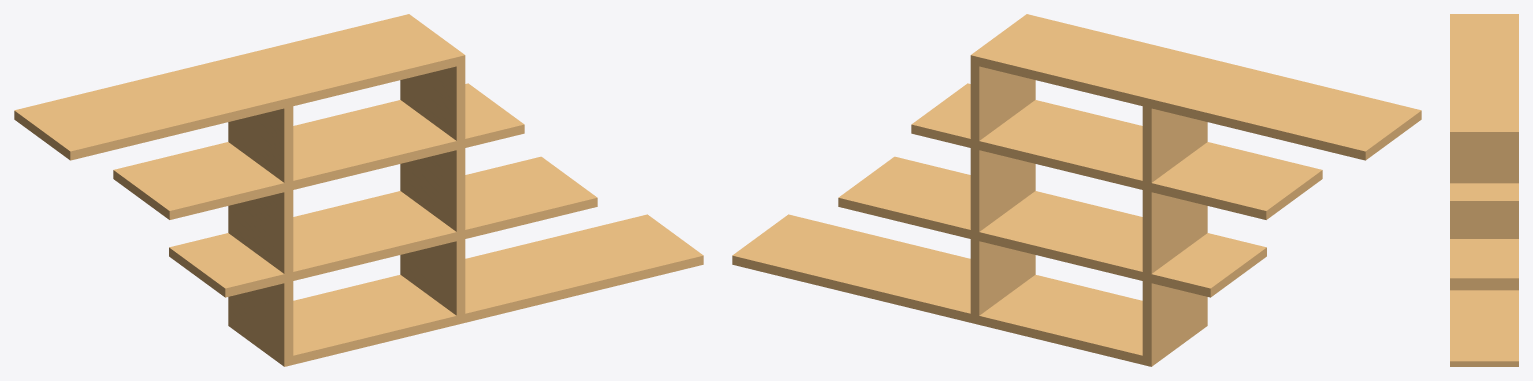
The model's file is scene_pC9adeZ5WV.glb.
The picture shows the model from 3 angles, left to right: view 1: azimuth 30°, elevation 25°; view 2: azimuth 150°, elevation 25°; view 3: azimuth 270°, elevation 25°; orthographic projection. The views are drawn at different scales.
Parts seen in each view (by area): view 1: Node; view 2: Node; view 3: Node.
Part boxes in pixels (bbox=[...]): Node: bbox=[14, 14, 703, 366]; Node: bbox=[732, 14, 1421, 366]; Node: bbox=[1450, 14, 1518, 366].
Size of the model in its own units: 3.64 by 1.47 by 0.56.
